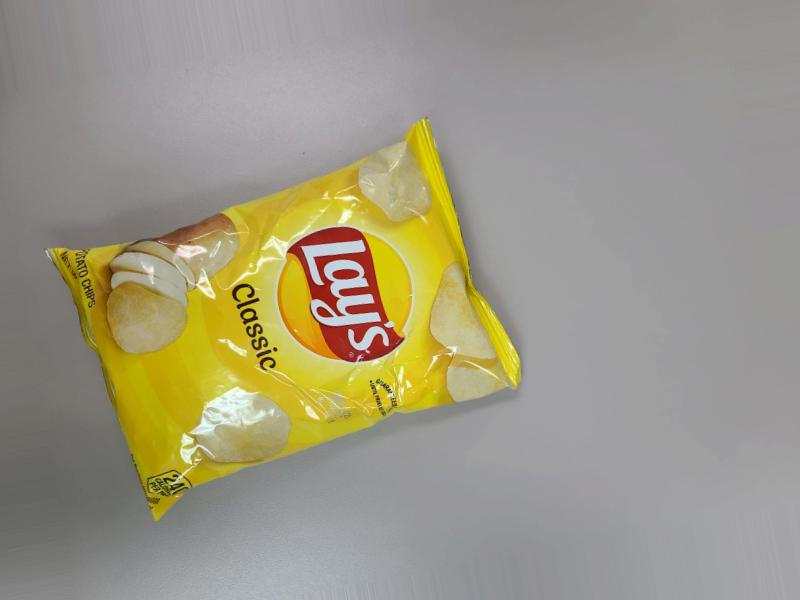lays: (135, 206, 583, 533)
